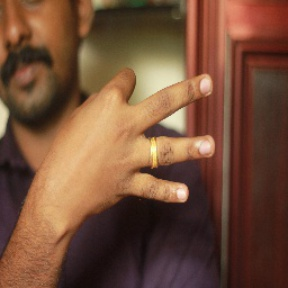K: (35, 68, 215, 213)
